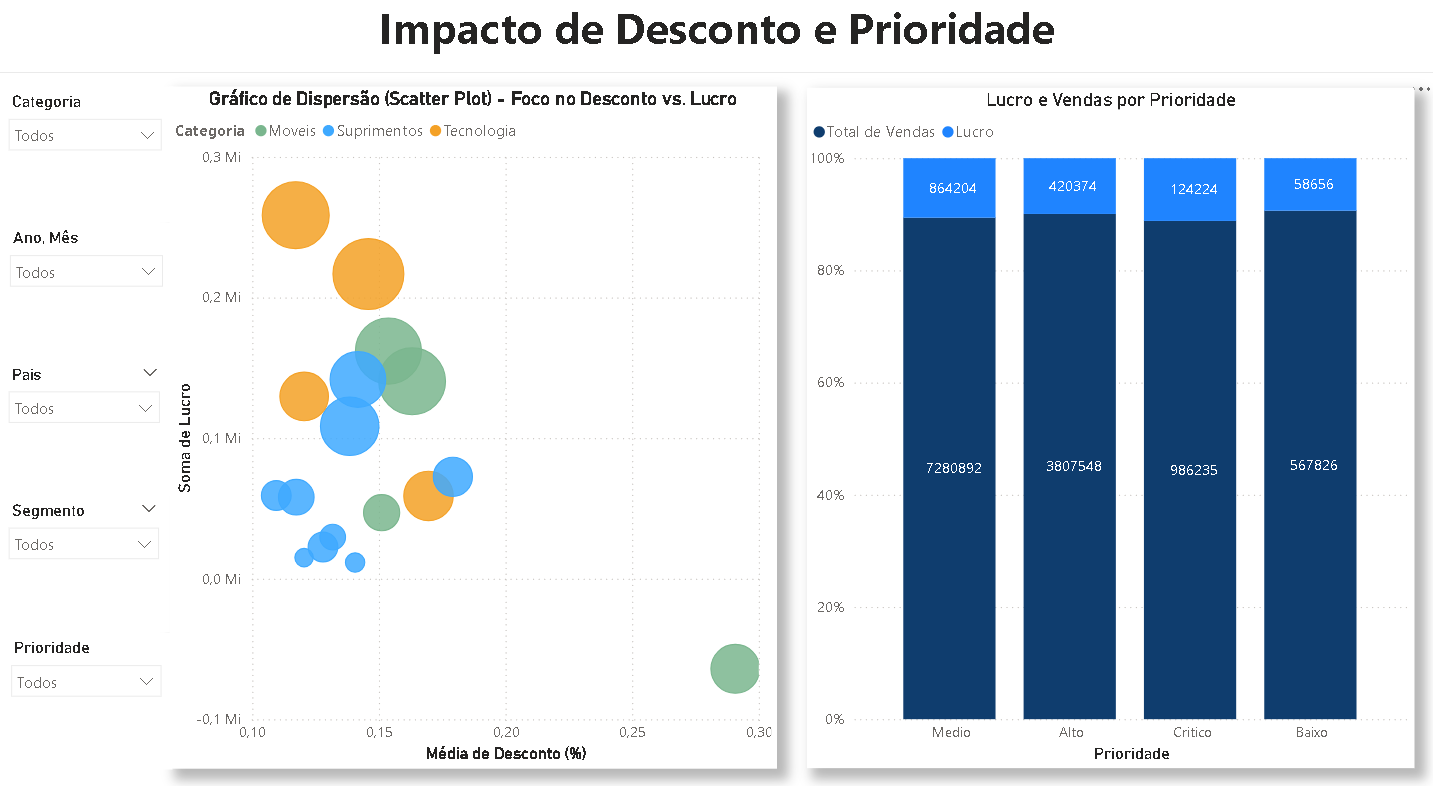

The dashboard page shown, as its layout file describes it:
{"tool":"powerbi","page":{"name":"Análise de Detalhes - Desconto e Prioridade","canvas":[1280,720],"ordinal":2},"visuals":[{"type":"textbox","box":[10,0,280,280],"z":0},{"type":"textbox","box":[0,0,1280,70],"z":1000},{"type":"scatterChart","title":"Gráfico de Dispersão (Scatter Plot) - Foco no Desconto vs. Lucro","fields":{"X":["Avg(dataset (2).Desconto)"],"Y":["Sum(dataset (2).Lucro)"],"Category":["dataset (2).SubCategoria"],"Size":["Sum(dataset (2).Total_Vendas)"],"Series":["dataset (2).Categoria"]},"box":[153.8,82.5,540,606.2],"z":2000},{"type":"hundredPercentStackedColumnChart","title":"Lucro e Vendas por Prioridade","fields":{"Category":["dataset (2).Prioridade"],"Y":["Sum(dataset (2).Total_Vendas)","Sum(dataset (2).Lucro)"]},"box":[720,83.8,540,605],"z":3000},{"type":"slicer","fields":{"Values":["dataset (2).Categoria"]},"box":[0,82.3,156.2,121],"z":4000},{"type":"slicer","fields":{"Values":["dataset (2).Data_Pedido.Variation.Hierarquia de datas.Ano","dataset (2).Data_Pedido.Variation.Hierarquia de datas.Mês"]},"box":[1.2,203.5,156.2,121.2],"z":5000},{"type":"slicer","fields":{"Values":["dataset (2).Pais"]},"box":[0,324.8,155,121.2],"z":6000},{"type":"slicer","fields":{"Values":["dataset (2).Segmento"]},"box":[0,446,153.8,121.2],"z":7000},{"type":"slicer","fields":{"Values":["dataset (2).Prioridade"]},"box":[2.5,567.3,153.8,121.2],"z":8000}]}

Visuals, with their boxes in screenshot pixels (x1, y1, x2, y2), scaled from the page's 1280x720 canvas onto the 1433x786 screenshot:
textbox: x1=11, y1=0, x2=325, y2=306
textbox: x1=0, y1=0, x2=1432, y2=76
"Gráfico de Dispersão (Scatter Plot) - Foco no Desconto vs. Lucro" scatterChart: x1=172, y1=90, x2=777, y2=752
"Lucro e Vendas por Prioridade" hundredPercentStackedColumnChart: x1=806, y1=91, x2=1411, y2=752
slicer - dataset (2).Categoria: x1=0, y1=90, x2=175, y2=222
slicer - dataset (2).Data_Pedido.Variation.Hierarquia de datas.Ano x dataset (2).Data_Pedido.Variation.Hierarquia de datas.Mês: x1=1, y1=222, x2=176, y2=354
slicer - dataset (2).Pais: x1=0, y1=355, x2=174, y2=487
slicer - dataset (2).Segmento: x1=0, y1=487, x2=172, y2=619
slicer - dataset (2).Prioridade: x1=3, y1=619, x2=175, y2=752
